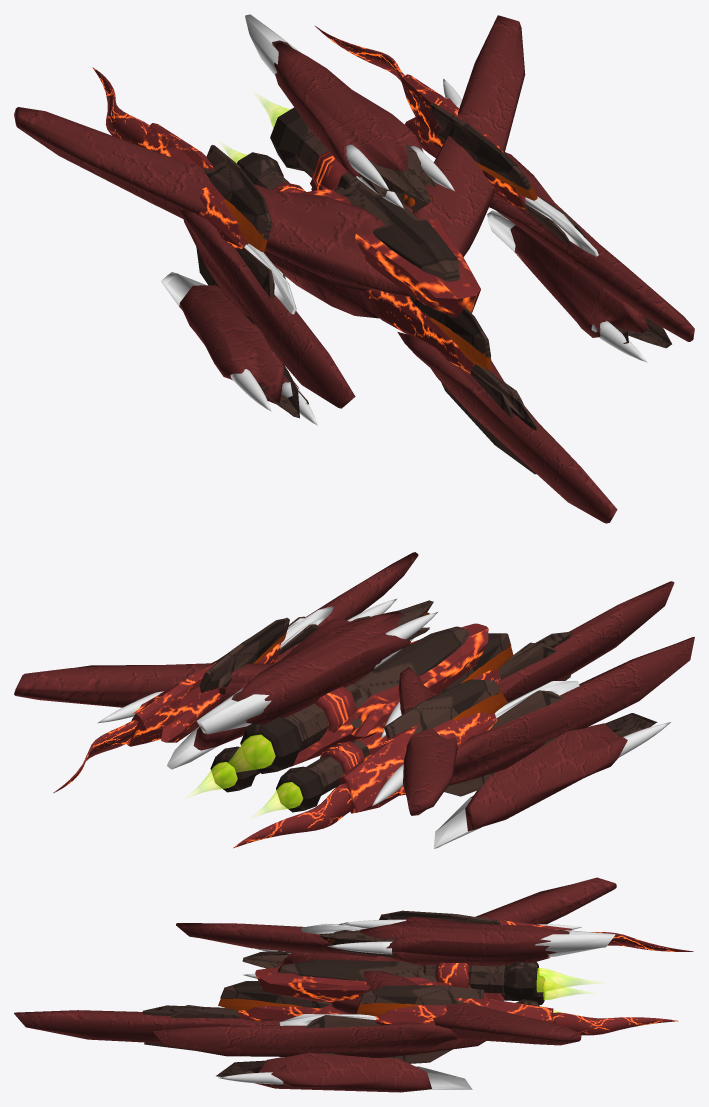
The model's file is reaver_feral.gltf.
3 renders of one model, top to bottom at view 1: azimuth 30°, elevation 25°; view 2: azimuth 150°, elevation 25°; view 3: azimuth 270°, elevation 25°, orthographic. The views are drawn at different scales.
Visible parts, largest first — view 1: Cube.001, Cube, Cube.003, Cone.002, Cube.004; view 2: Cube.001, Cube, Cube.003, Cone.002, Cone.001, Cube.004; view 3: Cube.001, Cube, Cube.003, Cone.002, Cone.001, Cube.004.
Boxes of the visible parts, x1,y1,x2,y2 form: Cube.001: (14, 15, 694, 523); Cube: (179, 40, 671, 474); Cube.003: (92, 26, 526, 373); Cone.002: (161, 14, 647, 425); Cube.004: (223, 161, 537, 370); Cube.001: (14, 552, 694, 831); Cube: (193, 600, 657, 831); Cube.003: (53, 623, 500, 848); Cone.002: (97, 598, 670, 848); Cone.001: (190, 734, 303, 816); Cube.004: (210, 612, 513, 720); Cube.001: (14, 877, 616, 1092); Cube: (142, 910, 569, 1089); Cube.003: (238, 920, 693, 1035); Cone.002: (218, 919, 615, 1089); Cone.001: (536, 968, 597, 1012); Cube.004: (218, 938, 420, 1016).
Size of the model in its own units: 5.73 by 2.31 by 10.37.
Materials: 6 (5 with a texture image).
